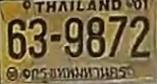2: (130, 14, 148, 57)
3: (28, 17, 46, 57)
6: (7, 18, 25, 58)
7: (108, 15, 126, 56)
8: (86, 16, 104, 56)
9: (64, 17, 82, 56)
BKK: (31, 64, 128, 82)
